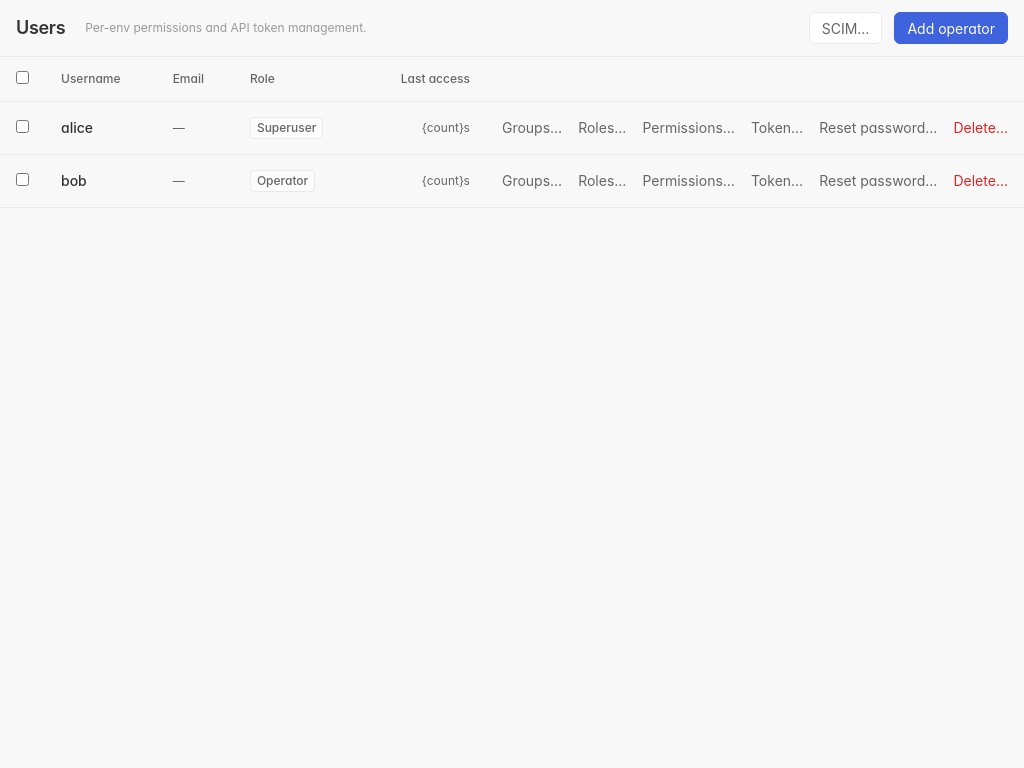
Test case: UsersPage › bulk is disabled while a tier is Tags
The image size is (1024, 768).
Click the button "Permissions…" in the row of "bob" at (689, 181), box x1=634 y1=167 x2=743 y2=195
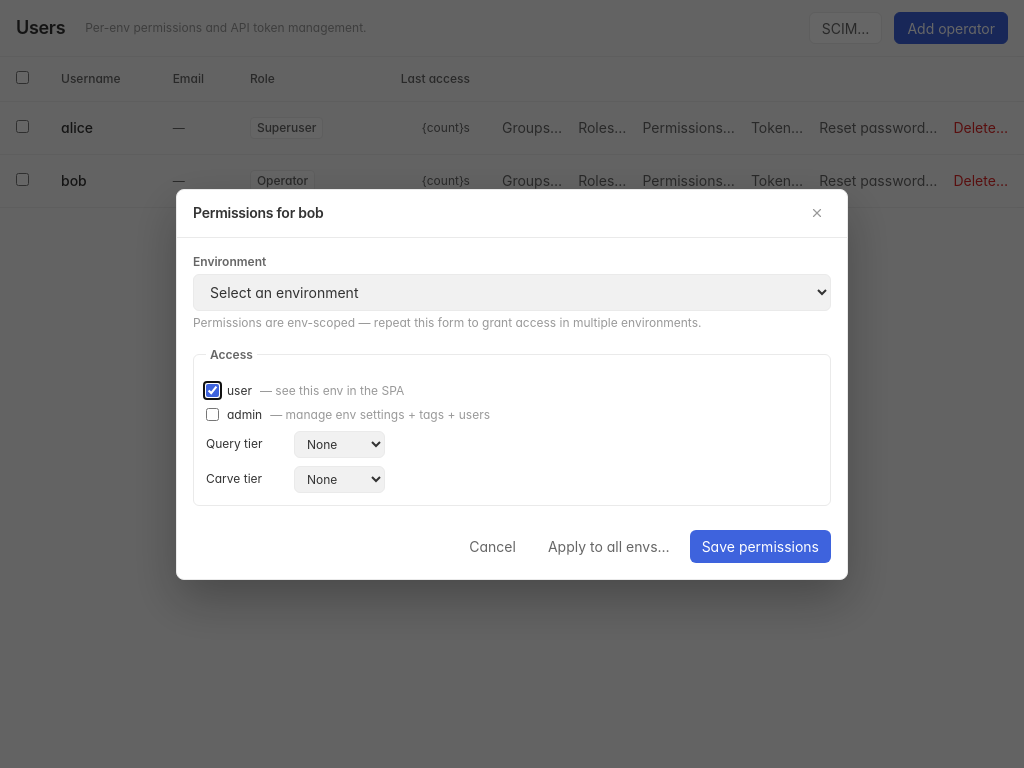
Select "prod" in the dropdown labelled "Environment" at (512, 292), box x1=193 y1=274 x2=831 y2=310
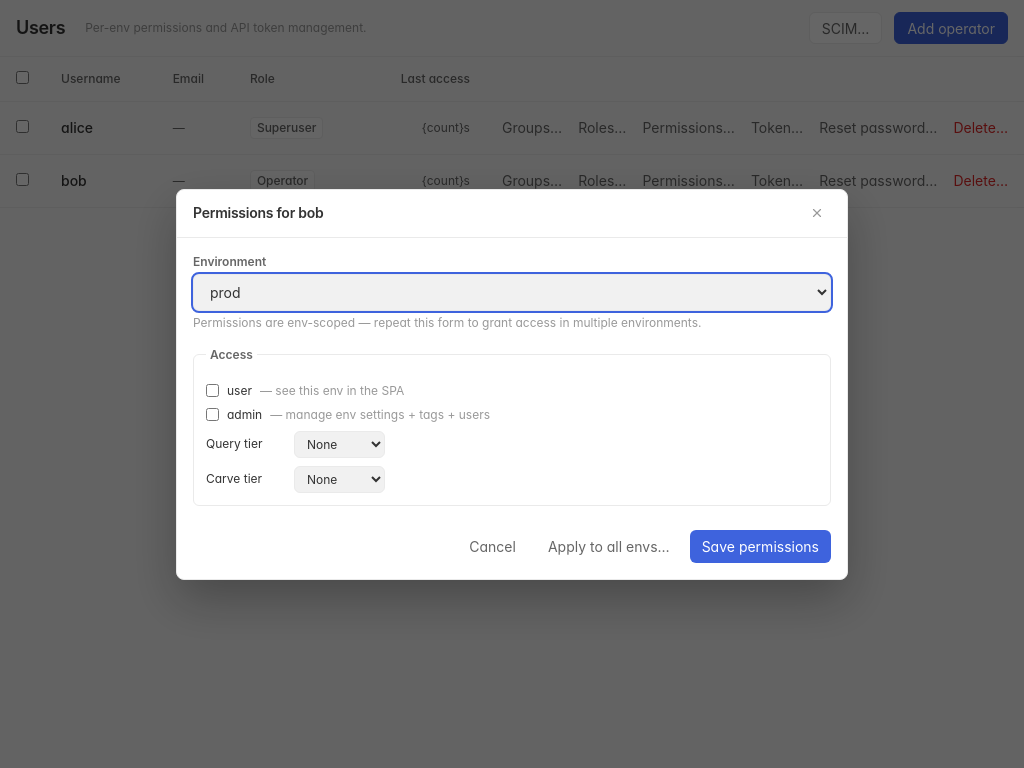
Select "Tags" in the dropdown labelled "Carve tier" at (340, 479), box x1=294 y1=466 x2=385 y2=492
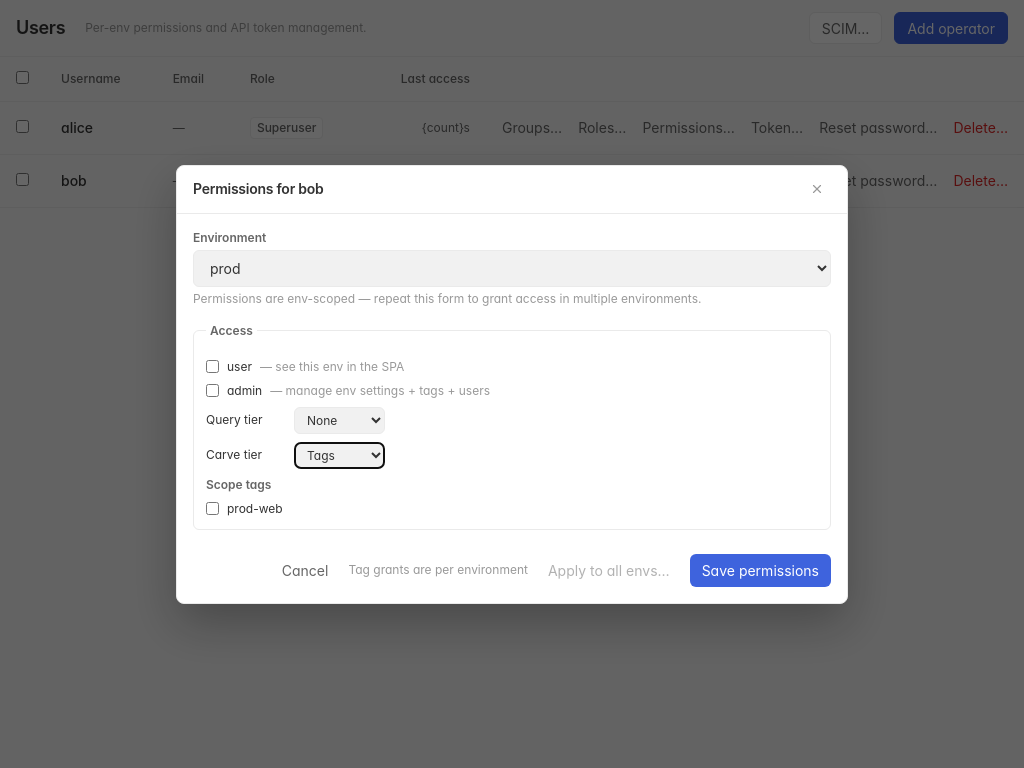
Expected: the button "Apply to all envs…" is disabled, x1=536 y1=554 x2=682 y2=586
Expected: the text "Tag grants are per environment" is shown, x1=348 y1=562 x2=528 y2=578
